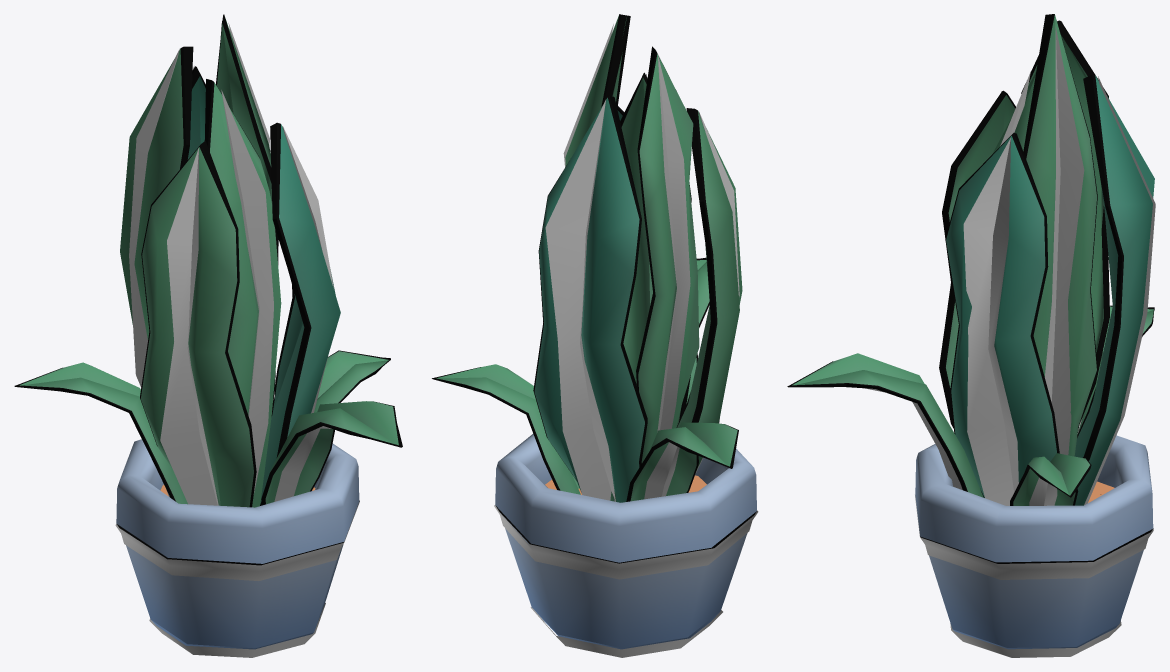
The model's file is Rooms_Paradise_SmallFlowerPot_01_Art.fbx.
3 views of the same model, side by side, from view 1: azimuth 30°, elevation 25°; view 2: azimuth 150°, elevation 25°; view 3: azimuth 270°, elevation 25° (orthographic). The views are drawn at different scales.
Parts seen in each view (by area): view 1: Rooms_Paradise_SmallFlowerPot_01_Art; view 2: Rooms_Paradise_SmallFlowerPot_01_Art; view 3: Rooms_Paradise_SmallFlowerPot_01_Art.
Boxes of the visible parts, x1=… form: Rooms_Paradise_SmallFlowerPot_01_Art: x1=14, y1=14, x2=402, y2=657; Rooms_Paradise_SmallFlowerPot_01_Art: x1=432, y1=14, x2=758, y2=657; Rooms_Paradise_SmallFlowerPot_01_Art: x1=787, y1=14, x2=1155, y2=657.
Bounding box in the file's own units: 107 × 184 × 101.
